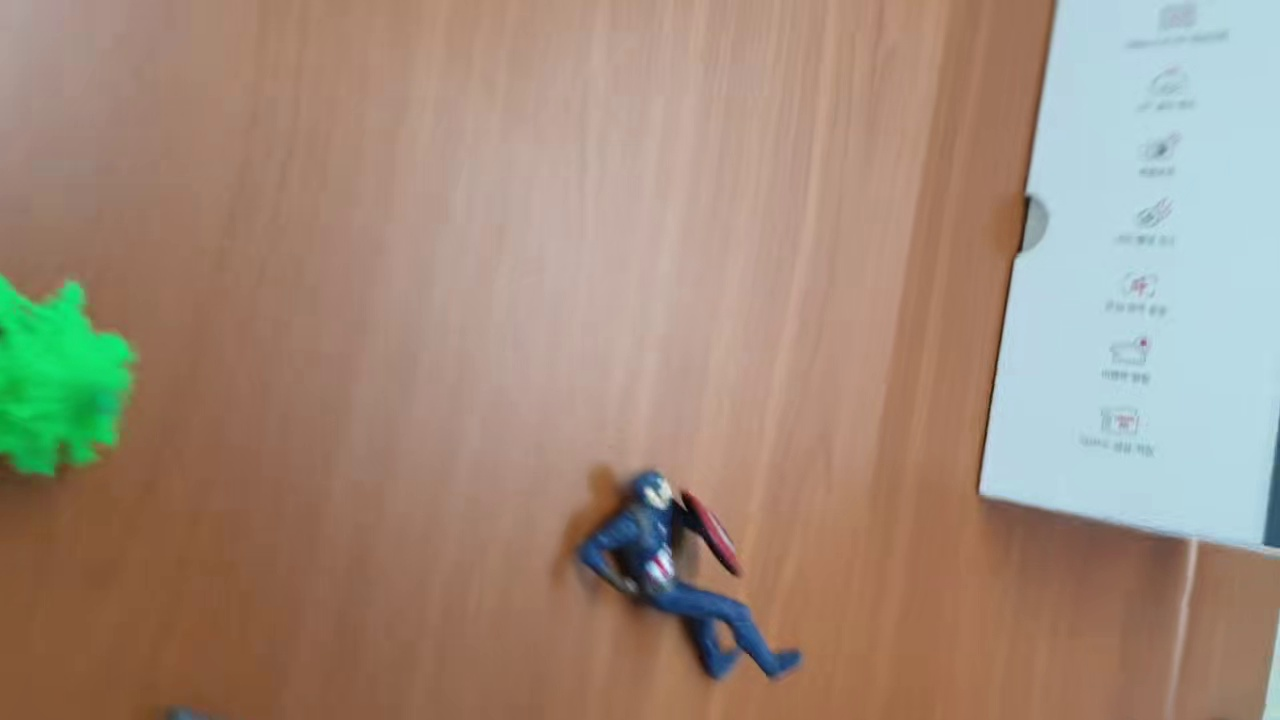people: (575, 464, 809, 687)
tree: (1, 273, 144, 483)
